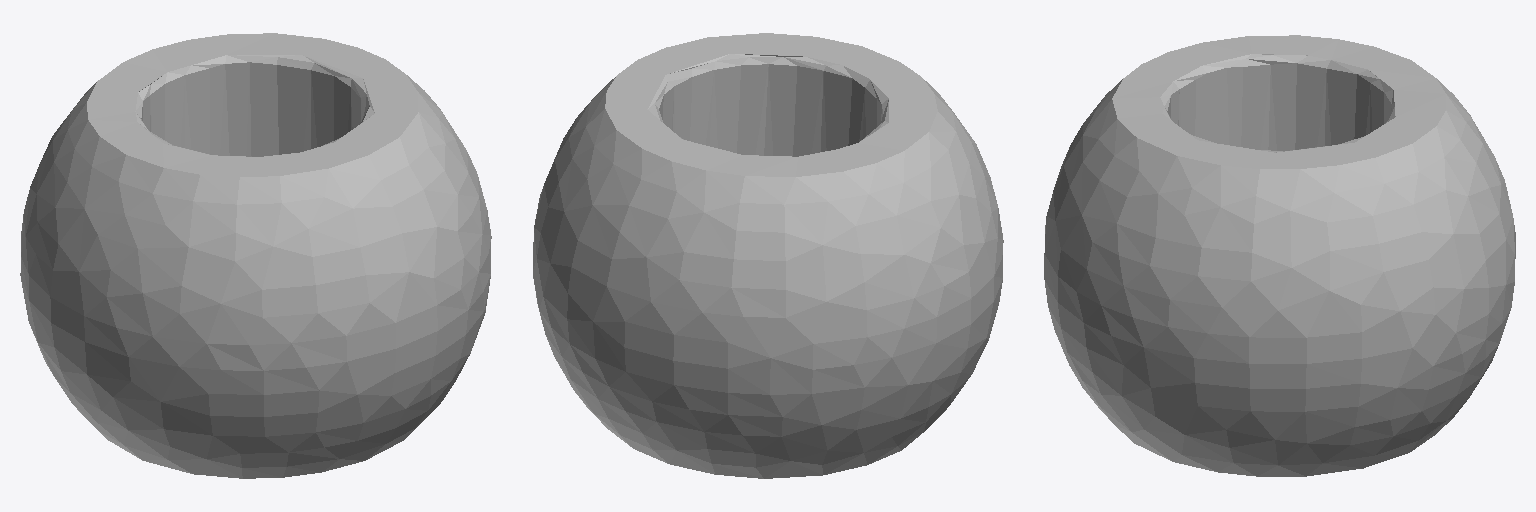
URDF robot description (ball):
<?xml version="1.0" encoding="utf-8"?>
<!-- This URDF was automatically created by SolidWorks to URDF Exporter! Originally created by Stephen Brawner (brawner@gmail.com) 
     Commit Version: 1.6.0-4-g7f85cfe  Build Version: 1.6.7995.38578
     For more information, please see http://wiki.ros.org/sw_urdf_exporter -->
<robot
  name="ball">
  <link
    name="ball_linkage">
    <inertial>
      <origin
        xyz="-0.0835930721919286 6.0645907732914E-06 -0.00481486414450784"
        rpy="0 0 0" />
      <mass
        value="0.11572141963369" />
      <inertia
        ixx="3.23880110553235E-06"
        ixy="5.80517308389735E-07"
        ixz="-5.80226043150348E-07"
        iyy="0.000300934774084005"
        iyz="4.69786856045314E-10"
        izz="0.000300908689092935" />
    </inertial>
    <visual>
      <origin
        xyz="0 0 0"
        rpy="0 0 0" />
      <geometry>
        <mesh
          filename="package://ball/meshes/ball_linkage.STL" />
      </geometry>
      <material
        name="">
        <color
          rgba="0.752941176470588 0.752941176470588 0.752941176470588 1" />
      </material>
    </visual>
    <collision>
      <origin
        xyz="0 0 0"
        rpy="0 0 0" />
      <geometry>
        <mesh
          filename="package://ball/meshes/ball_linkage.STL" />
      </geometry>
    </collision>
  </link>
</robot>

--- Render facts (derived) ---
Views: 3 orthographic renders of the robot side by side, from view 1: azimuth 30°, elevation 25°; view 2: azimuth 150°, elevation 25°; view 3: azimuth 270°, elevation 25°.
Model ball with 1 links and 0 joints (none), rooted at ball_linkage, posed every joint at zero.
Links seen in each view (by area): view 1: ball_linkage; view 2: ball_linkage; view 3: ball_linkage.
Link boxes in pixels (x1,y1,x2,y2): ball_linkage: (20,33,491,478); ball_linkage: (533,33,1003,478); ball_linkage: (1044,35,1515,476).
Bounding box of the posed robot: 0.0127 × 0.0126 × 0.0092 m (x, y, z).
1 mesh visuals loaded from 1 distinct referenced files (1 binary STL).
